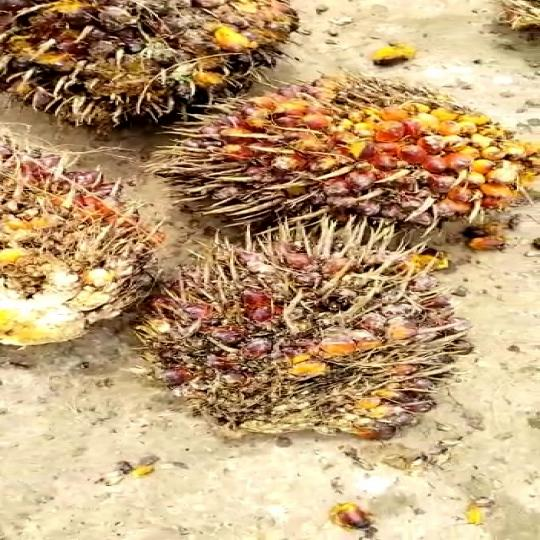masak: (147, 215, 486, 448), (148, 71, 540, 267), (0, 0, 304, 133)
